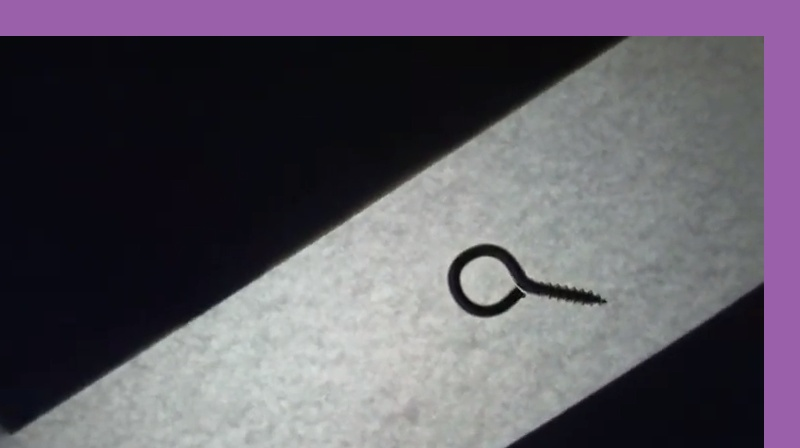O001: (440, 241, 609, 319)
